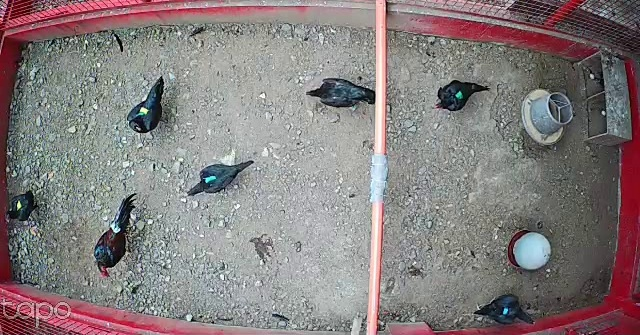Chicken: (463, 290, 541, 328), (125, 77, 174, 137), (184, 157, 255, 198), (304, 72, 374, 111), (432, 73, 491, 112), (3, 188, 41, 226)
Rooster: (88, 189, 150, 282)
Saddle_Color_Blue: (501, 306, 509, 314)
Saddle_Color_Yellow: (16, 200, 22, 210)
Saddle_Color_YellowGreen: (139, 106, 151, 117)
